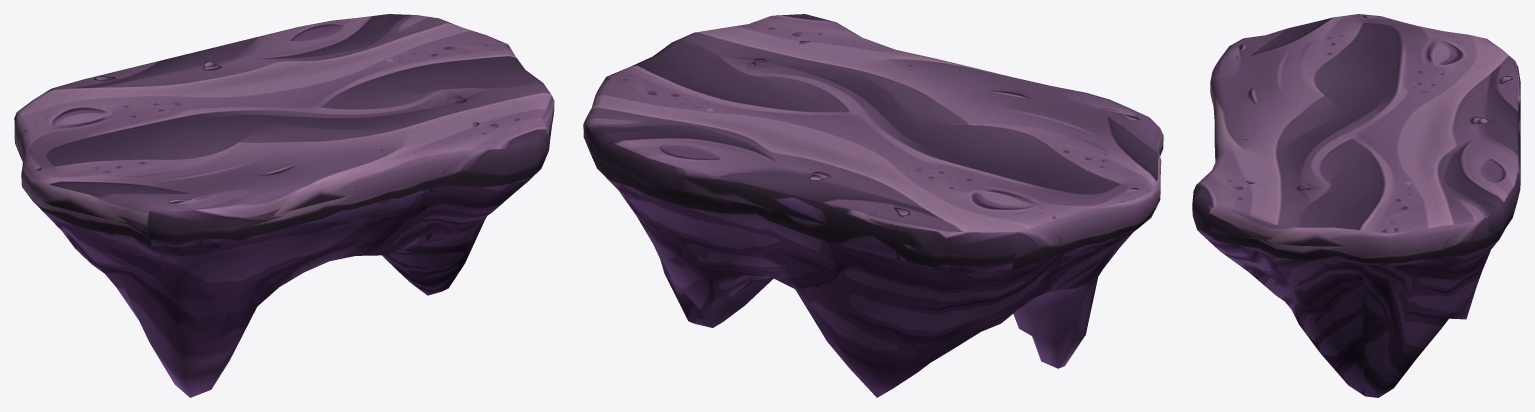
Rendered from Cañon_Isle.fbx.
3 views of the same model, side by side, from view 1: azimuth 30°, elevation 25°; view 2: azimuth 150°, elevation 25°; view 3: azimuth 270°, elevation 25° (orthographic). The views are drawn at different scales.
Parts seen in each view (by area): view 1: Cube; view 2: Cube; view 3: Cube.
Part boxes in pixels (box(x1,y1,x2,y2)): Cube: box(14, 14, 554, 397); Cube: box(583, 14, 1163, 397); Cube: box(1192, 14, 1520, 397).
Bounding box in the file's own units: 2305 × 992 × 1446.
1 material, 1 textured.
